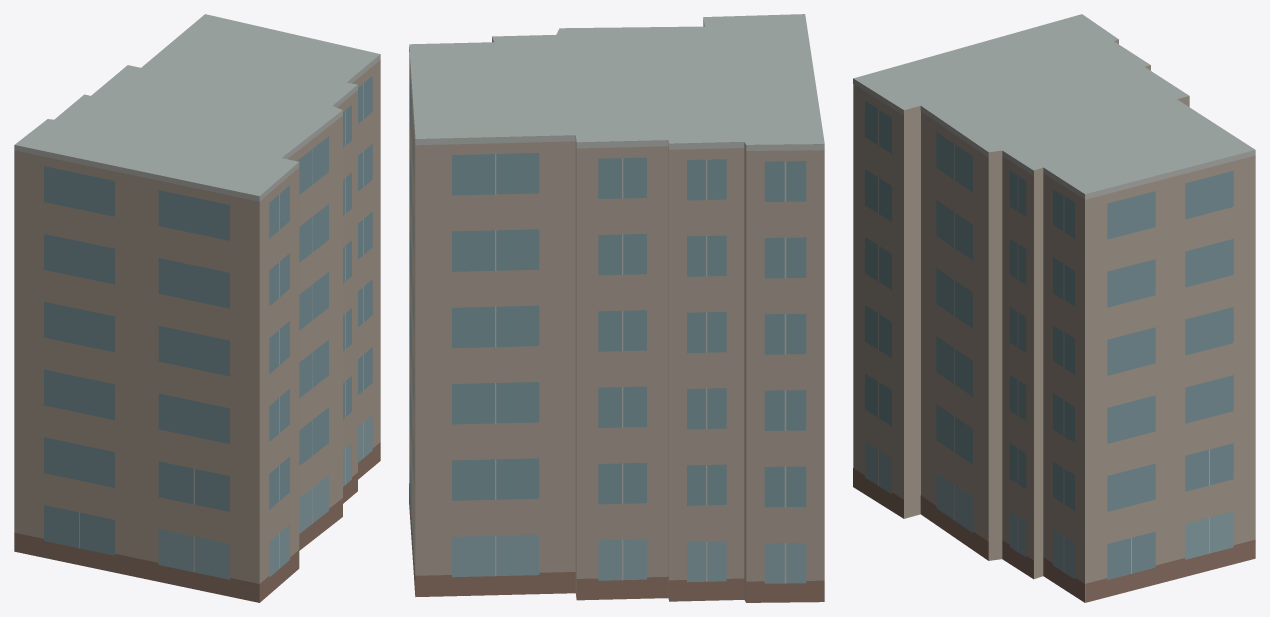
Rendered from survey-upis-32624736.glb.
The picture shows the model from 3 angles, left to right: view 1: azimuth 30°, elevation 25°; view 2: azimuth 150°, elevation 25°; view 3: azimuth 270°, elevation 25°; orthographic projection. The views are drawn at different scales.
Visible parts, largest first — view 1: survey-upis-32624736.tmp; view 2: survey-upis-32624736.tmp; view 3: survey-upis-32624736.tmp.
Part boxes in pixels (x1,y1,x2,y2): survey-upis-32624736.tmp: (14,14,380,602); survey-upis-32624736.tmp: (409,14,824,602); survey-upis-32624736.tmp: (853,14,1255,602).
Bounding box in the file's own units: 17.13 × 18.1 × 16.17.
